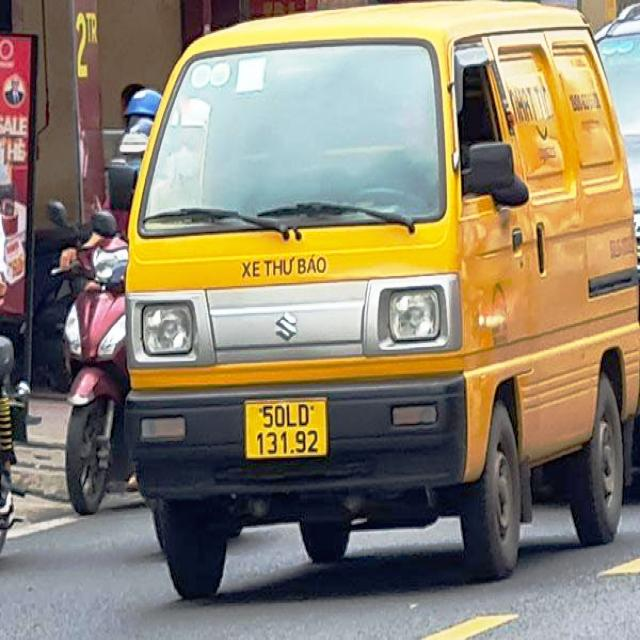license_plate: (248, 399, 328, 459)
